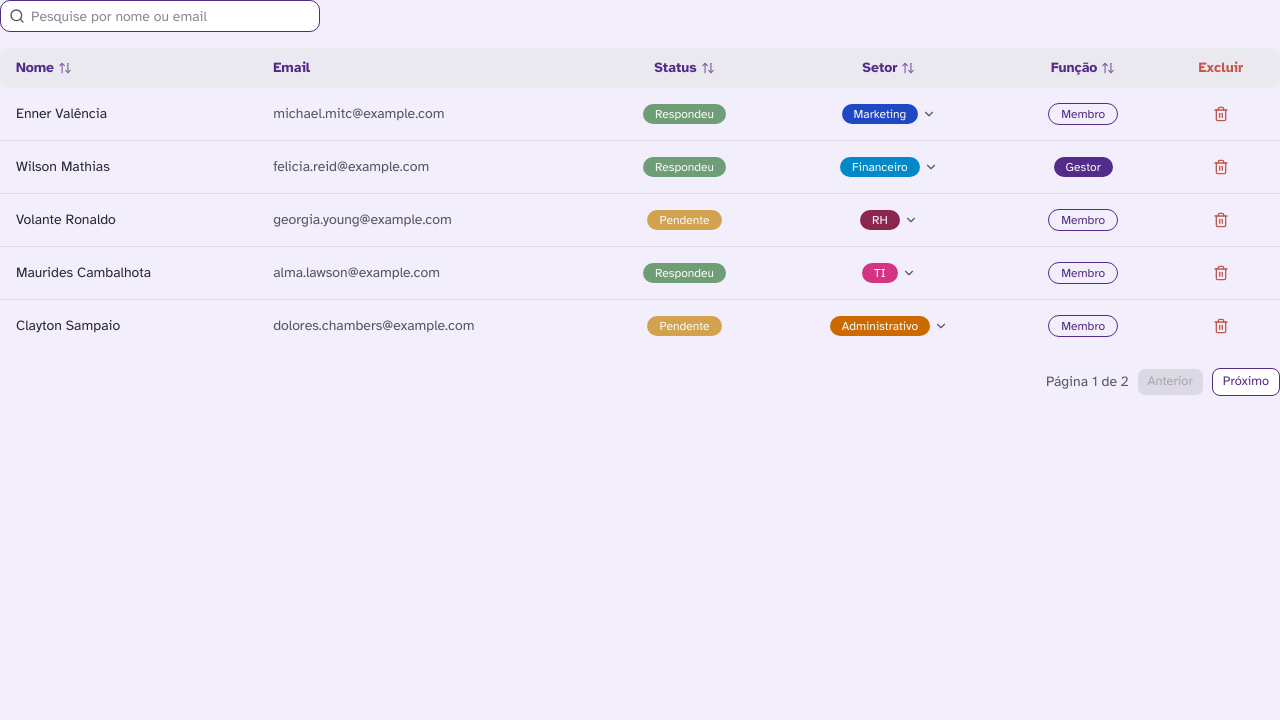
Test case: MembersTable › cancela a exclusão sem remover o membro
The width and height of the screenshot is (1280, 720).
Click the button named "Excluir Volante Ronaldo". click: (1221, 220)
box: [1205,204,1237,236]
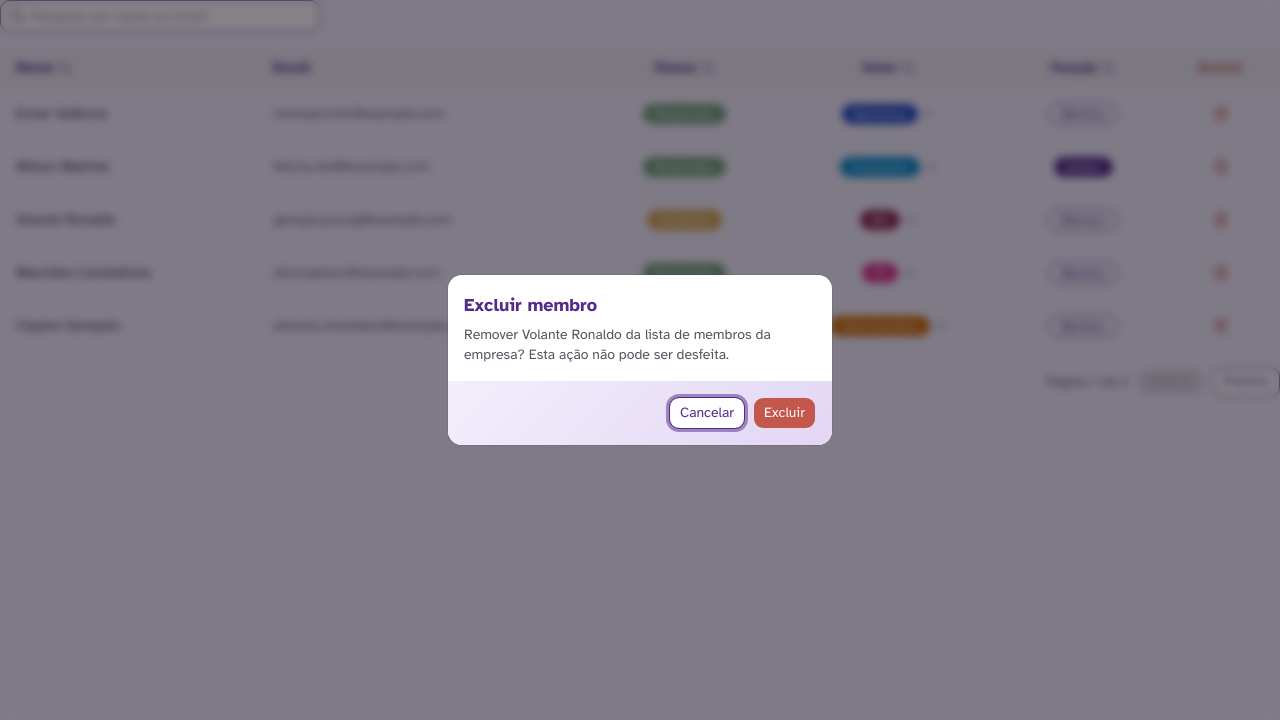
Click the button "Cancelar". click: (707, 413)
box: [669,397,745,429]
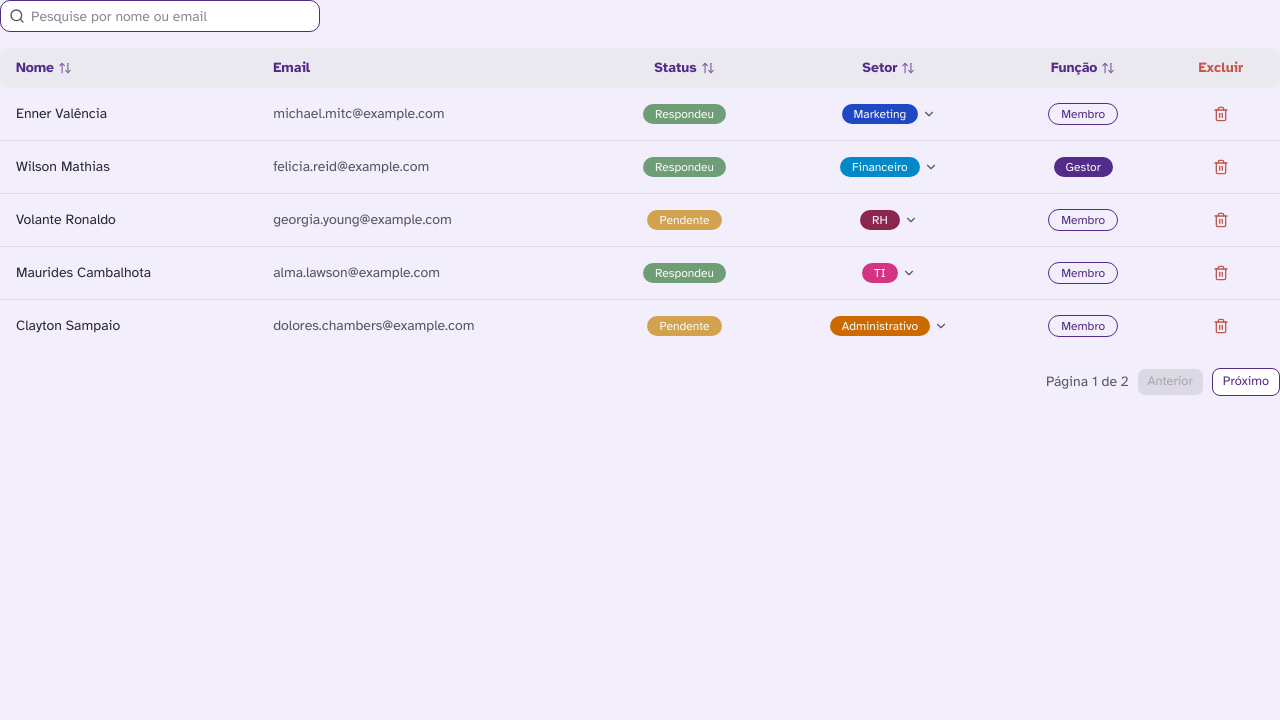
Expected: the text "Volante Ronaldo" is shown, [0,194,257,247]
Expected: the dialog is gone
